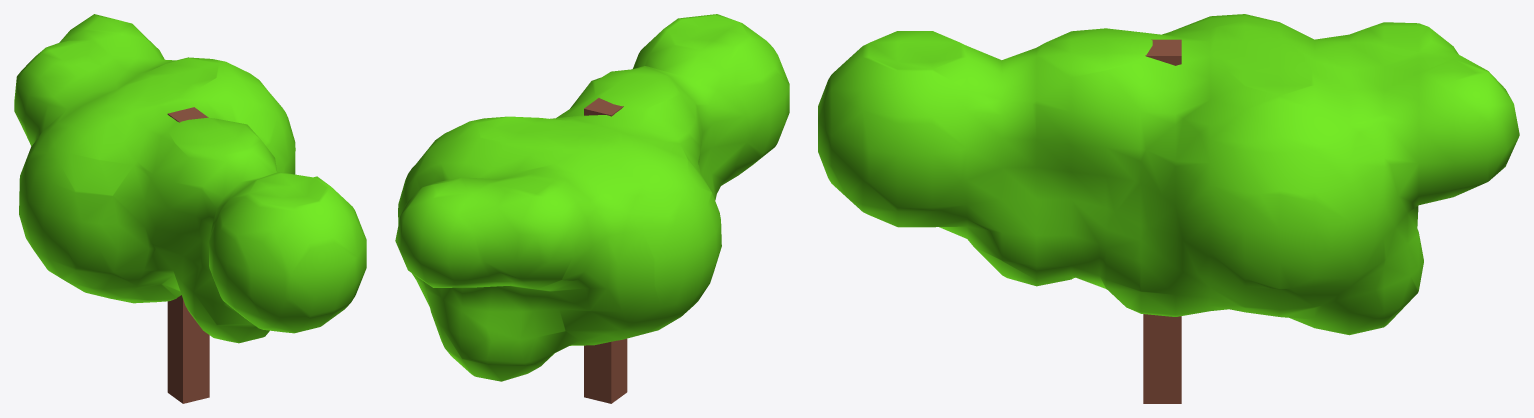
Rendered from FenceTree.fbx.
3 renders of one model, left to right at view 1: azimuth 30°, elevation 25°; view 2: azimuth 150°, elevation 25°; view 3: azimuth 270°, elevation 25°, orthographic. The views are drawn at different scales.
Visible parts, largest first — view 1: FenceTree; view 2: FenceTree; view 3: FenceTree.
Boxes of the visible parts, x1,y1,x2,y2 form: FenceTree: (14,14,366,403); FenceTree: (395,14,789,403); FenceTree: (818,14,1519,403).
Bounding box in the file's own units: 101 × 101 × 183.
